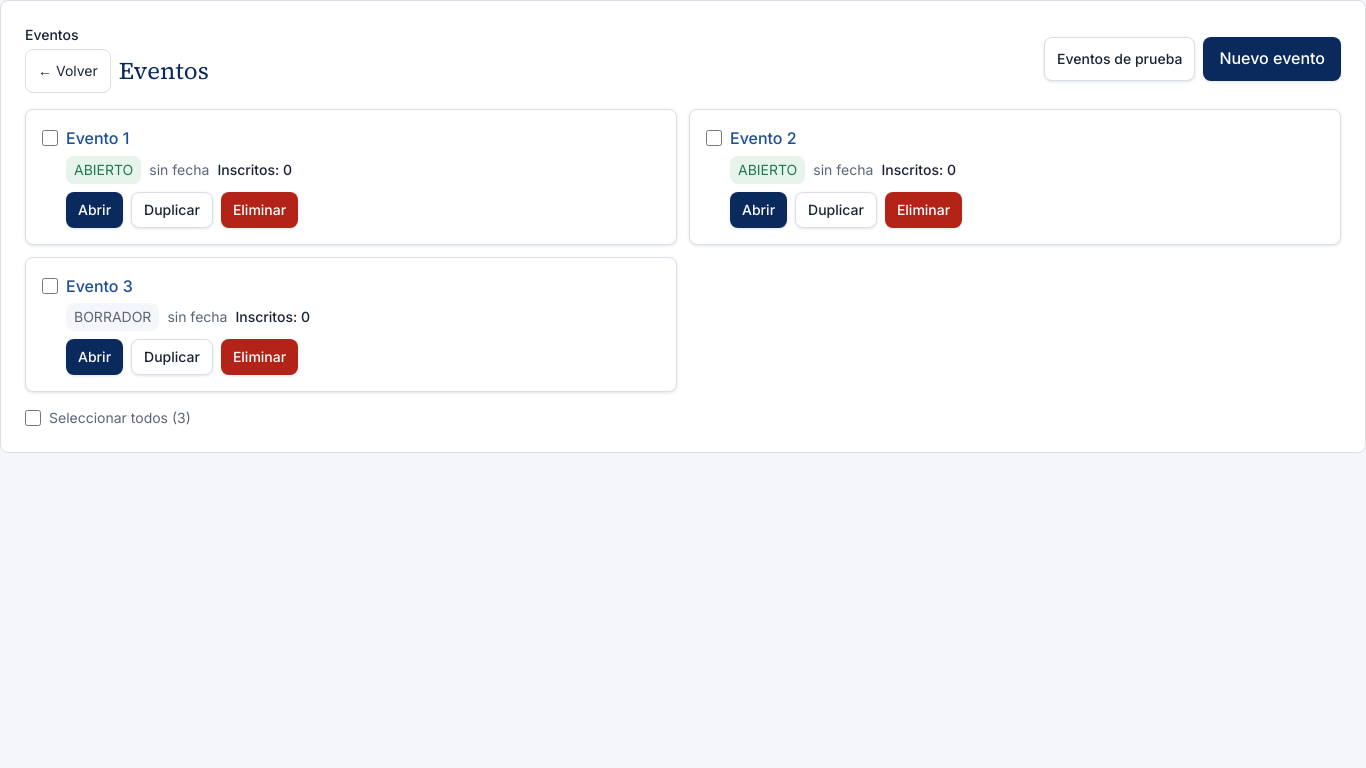
Test: EventosPage dialog regression & trigger isolation › mounts event list with 0 dialog elements and renders independent sibling action buttons
This screenshot has width=1366, height=768.
Check: the link "Evento 1" is shown, box left=66, top=128, right=129, bottom=148
Check: the link "Evento 2" is shown, box left=730, top=128, right=797, bottom=148
Note: Clicking "Eliminar" opens exactly 1 ConfirmDialog
Click the button "Eliminar" below "Evento 1" at (260, 210), box left=221, top=192, right=298, bottom=228
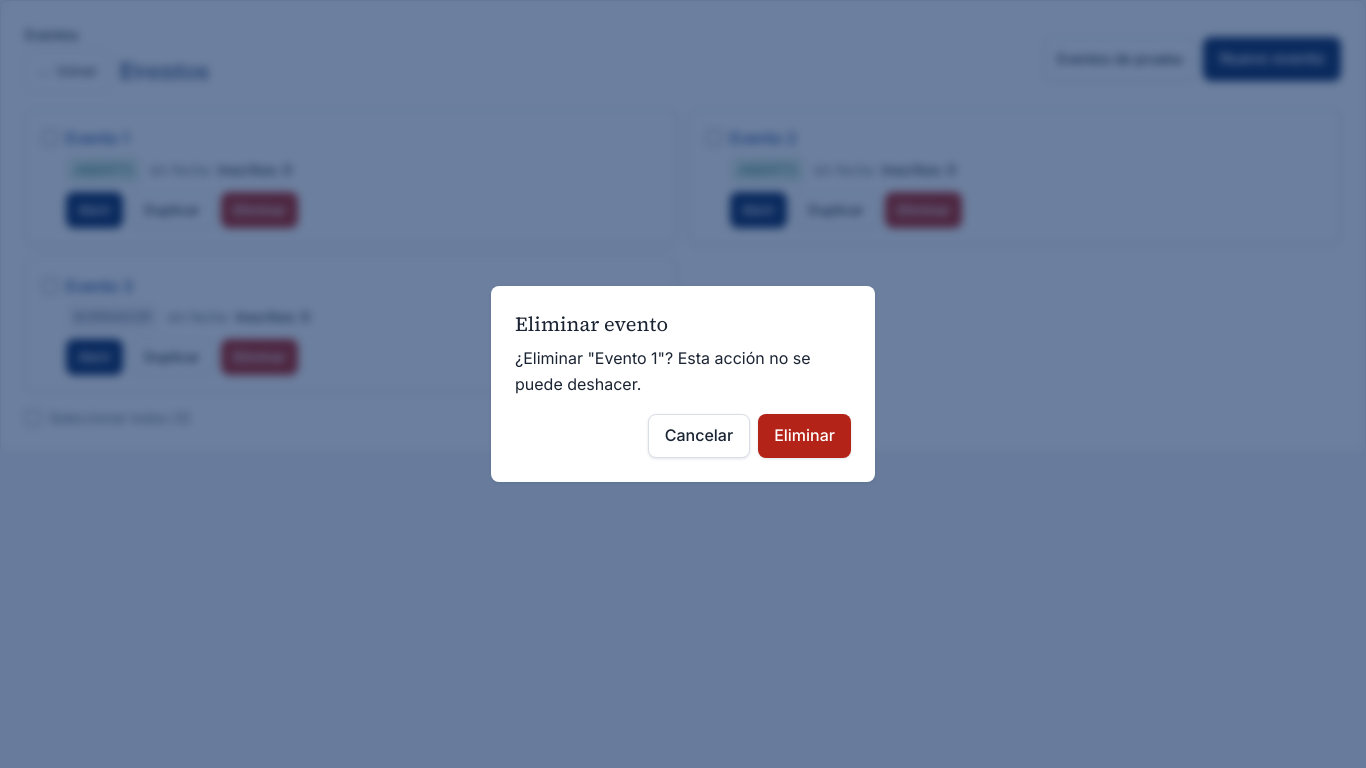
Check: the number of dialogs is 1
Check: the text "¿Eliminar \"Evento 1\"? Esta acción no se puede deshacer." is shown, box left=515, top=346, right=851, bottom=398
Note: Closing the dialog restores count to 0
Click the button "Cancelar" at (699, 436), box left=648, top=414, right=750, bottom=458
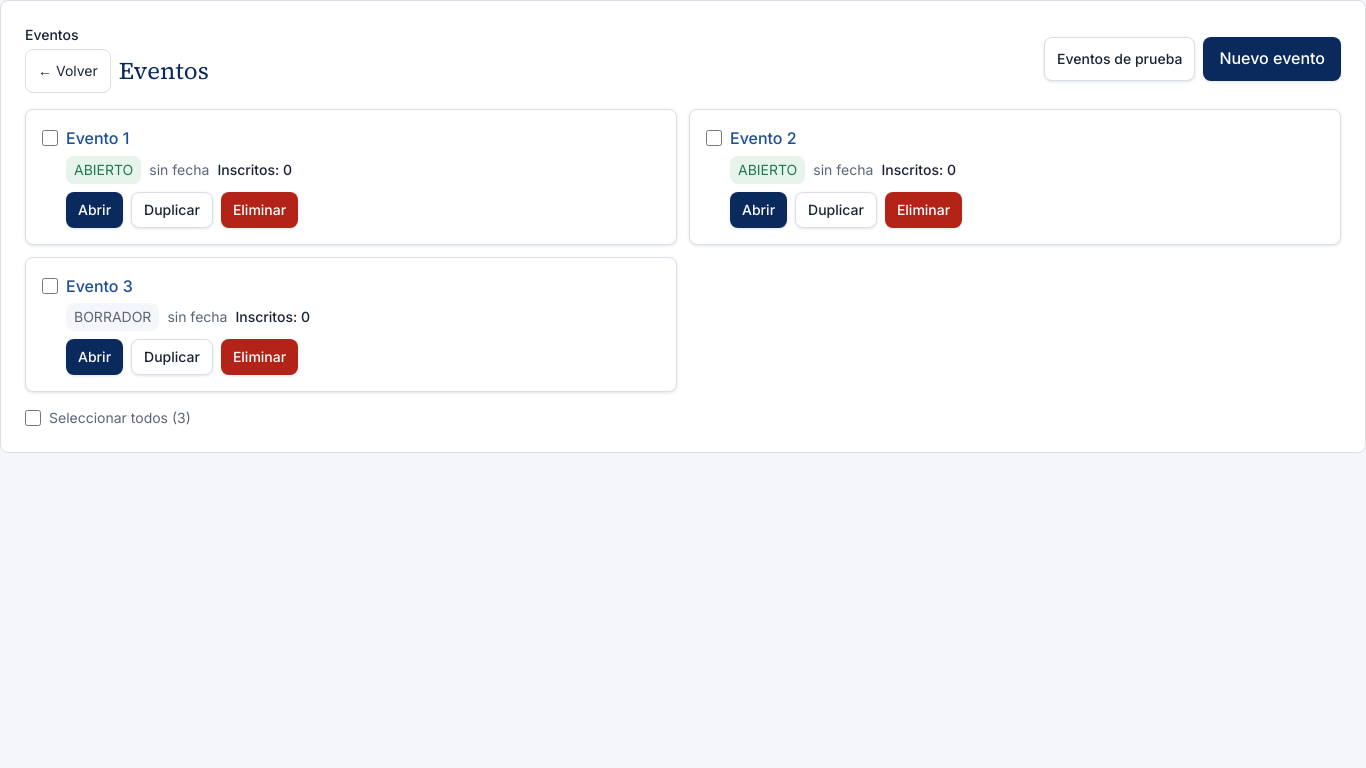
Check: no dialogs are shown
